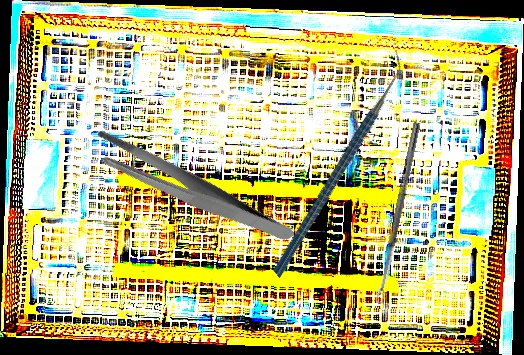Chopper: (213, 47, 461, 279)
Dressing Forceps: (84, 90, 298, 289)
Surgical Spoon: (374, 121, 421, 305)
